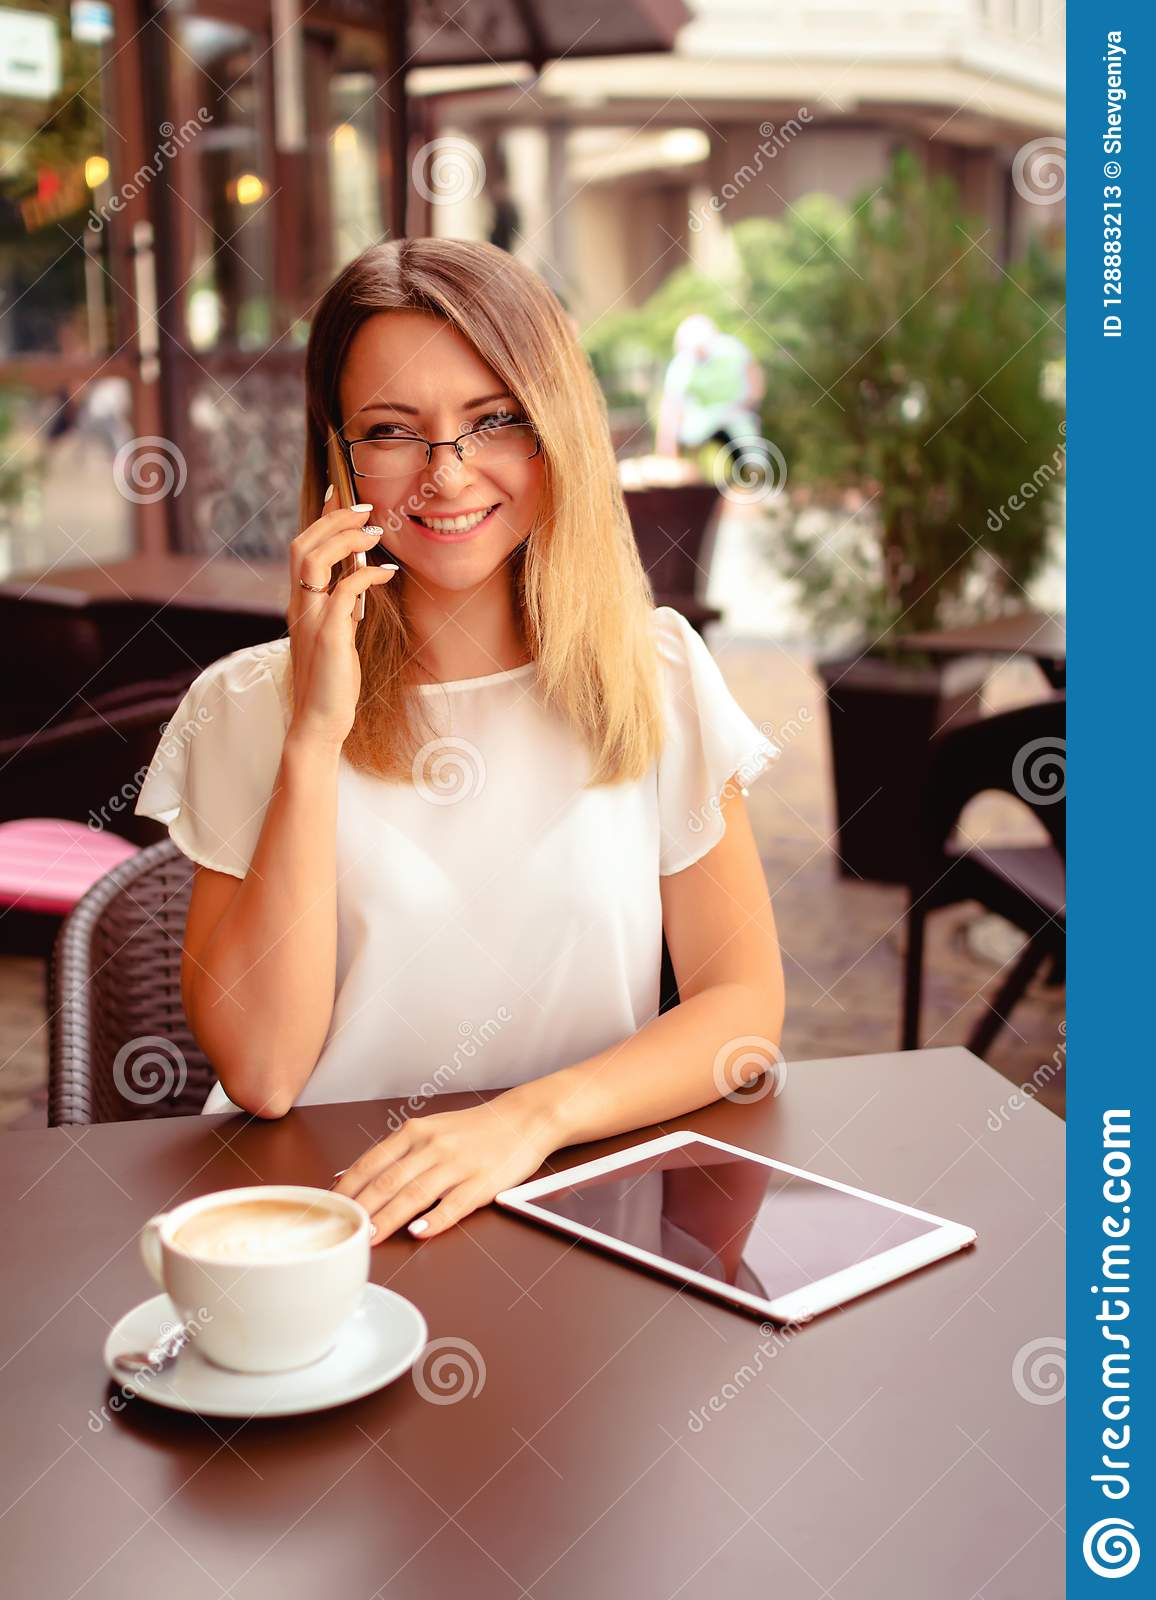phone: (315, 431, 377, 614)
talk: (281, 383, 553, 750)
